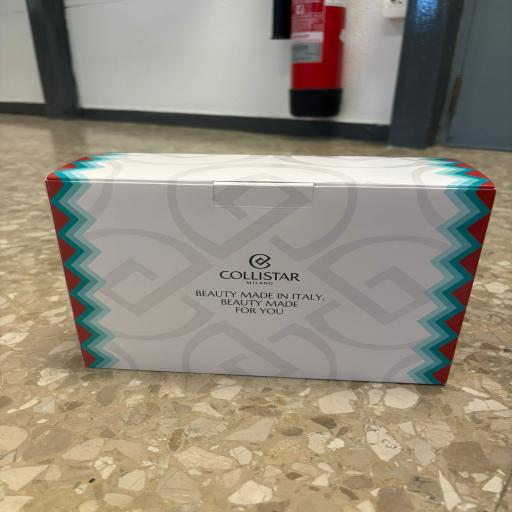caja_1: (47, 154, 494, 383)
